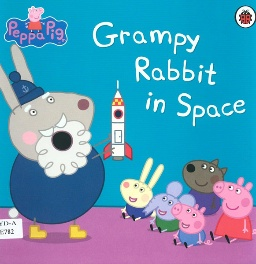Peppa: (210, 177, 256, 243)
